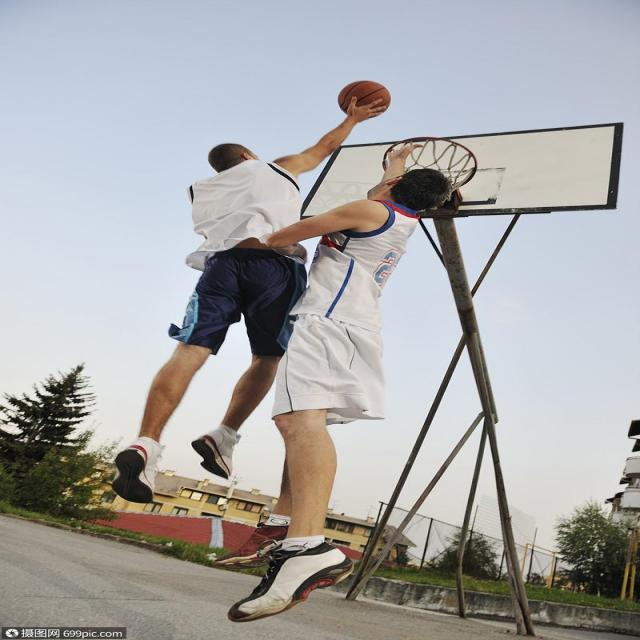rim: (340, 80, 390, 112)
